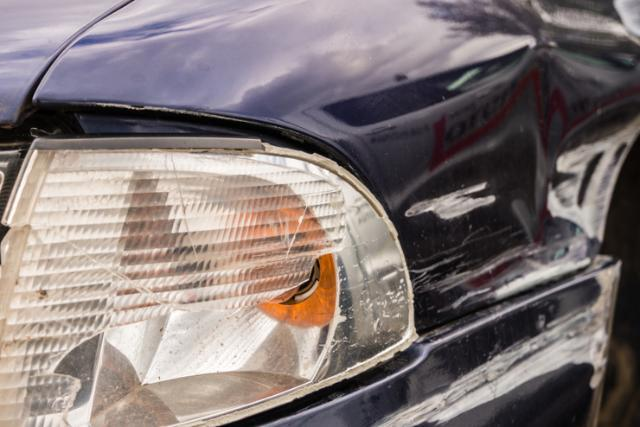Fender: (393, 0, 627, 427)
Light: (0, 123, 431, 416)
